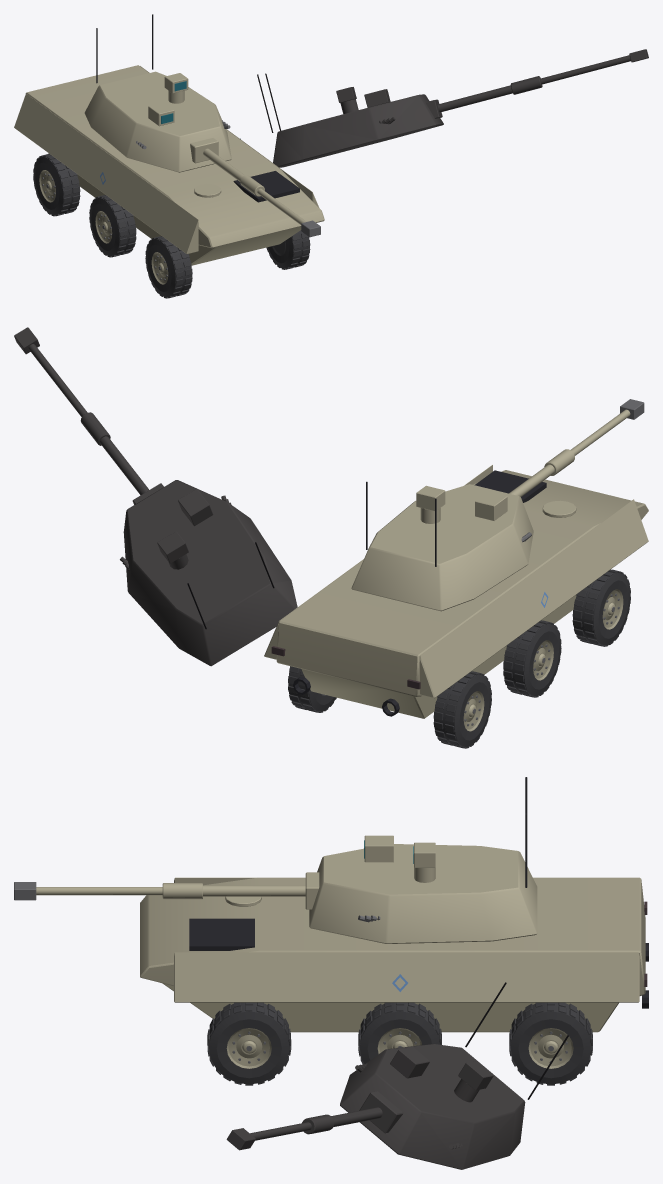
File: directFire__amx_10_rc.glb
3 views of the same model, one above another, from view 1: azimuth 30°, elevation 25°; view 2: azimuth 150°, elevation 25°; view 3: azimuth 270°, elevation 25° (orthographic). The views are drawn at different scales.
Parts seen in each view (by area): view 1: Hull_Mesh, Turret_Mesh, Wreck, Wheel_L2_Mesh, Wheel_L1_Mesh, Wheel_L0_Mesh, Gun_Mesh, Wheel_R2_Mesh; view 2: Hull_Mesh, Wreck, Turret_Mesh, Wheel_L1_Mesh, Wheel_L0_Mesh, Wheel_L2_Mesh, Gun_Mesh, Wheel_R0_Mesh; view 3: Hull_Mesh, Turret_Mesh, Wreck, Wheel_R2_Mesh, Wheel_R0_Mesh, Gun_Mesh, Wheel_R1_Mesh.
Boxes of the visible parts, x1,y1,x2,y2 form: Hull_Mesh: (14, 65, 324, 265); Turret_Mesh: (84, 14, 231, 172); Wreck: (49, 49, 648, 266); Wheel_L2_Mesh: (145, 236, 192, 298); Wheel_L1_Mesh: (89, 195, 136, 257); Wheel_L0_Mesh: (33, 154, 80, 216); Gun_Mesh: (190, 138, 320, 237); Wheel_R2_Mesh: (266, 230, 310, 269); Hull_Mesh: (264, 465, 648, 718); Wreck: (14, 327, 582, 711); Turret_Mesh: (351, 481, 533, 611); Wheel_L1_Mesh: (503, 620, 561, 697); Wheel_L0_Mesh: (433, 671, 491, 748); Wheel_L2_Mesh: (572, 569, 630, 646); Gun_Mesh: (509, 399, 644, 496); Wheel_R0_Mesh: (288, 666, 336, 712); Hull_Mesh: (140, 877, 648, 1032); Turret_Mesh: (309, 777, 537, 943); Wreck: (226, 982, 568, 1169); Wheel_R2_Mesh: (207, 1002, 291, 1085); Wheel_R0_Mesh: (509, 1002, 592, 1085); Gun_Mesh: (14, 872, 319, 909); Wheel_R1_Mesh: (358, 1002, 441, 1064).
Size of what is drawn, in the model's own units: 9.76 by 3.51 by 8.21.
